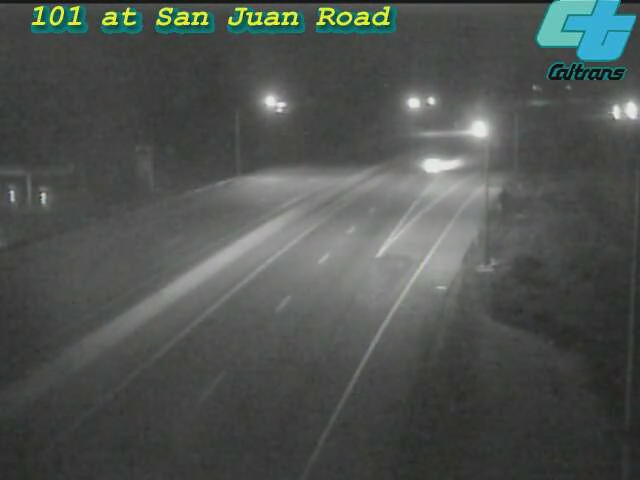vehicle: (393, 124, 473, 204), (454, 104, 504, 154), (592, 87, 640, 137), (607, 84, 640, 134)
